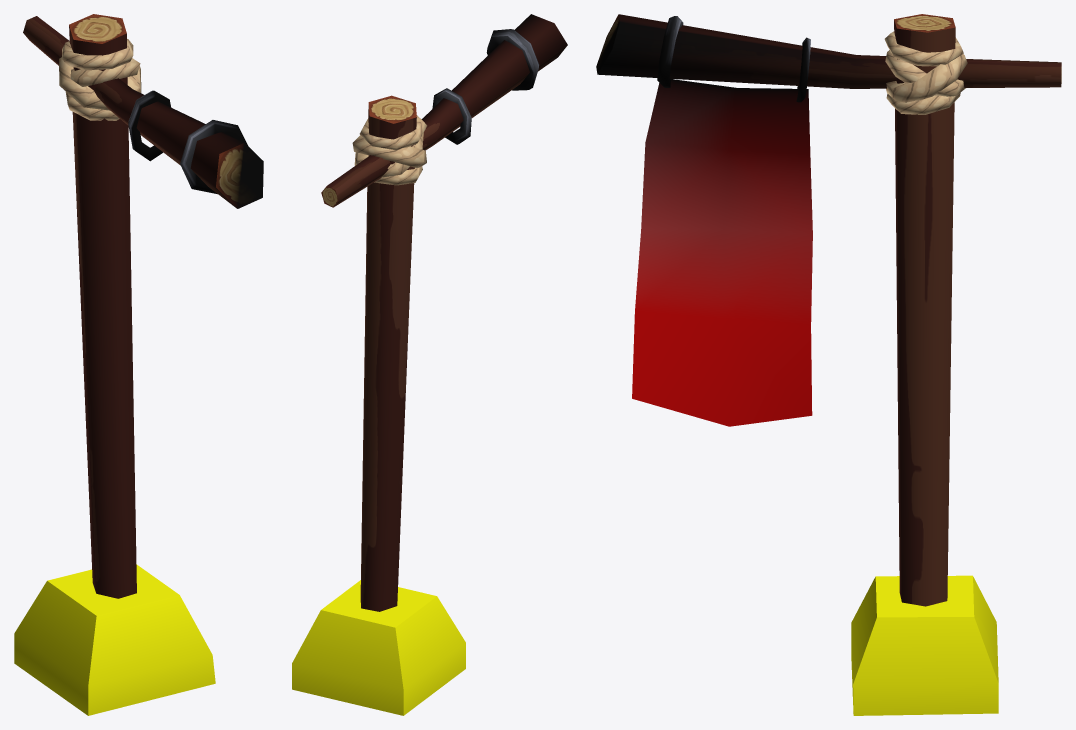
File: drapeau.glb
3 renders of one model, left to right at view 1: azimuth 30°, elevation 25°; view 2: azimuth 150°, elevation 25°; view 3: azimuth 270°, elevation 25°, orthographic. The views are drawn at different scales.
Parts seen in each view (by area): view 1: SM_PROP_flag_01; view 2: SM_PROP_flag_01; view 3: SM_PROP_flag_01.
Boxes of the visible parts, <box> form: SM_PROP_flag_01: <box>14,14,263,715</box>; SM_PROP_flag_01: <box>292,14,567,715</box>; SM_PROP_flag_01: <box>596,14,1061,715</box>.
Size of the model in its own units: 1.23 by 5.87 by 3.78.
6 materials, 5 textured.
